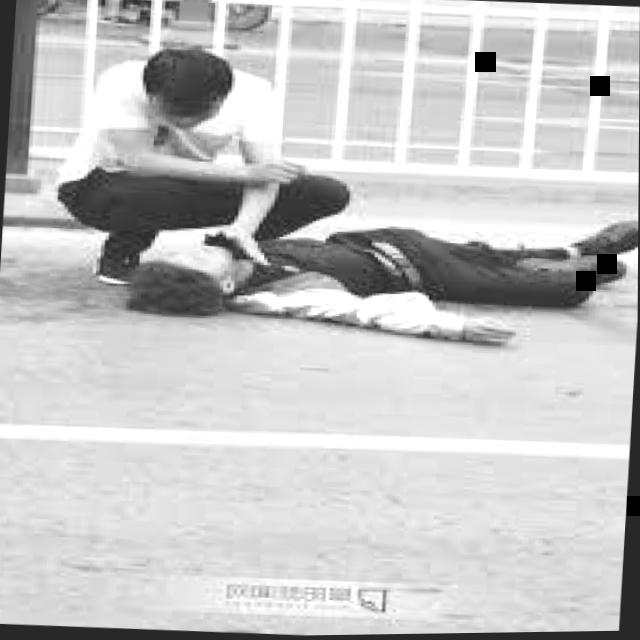Fall-Detected: (132, 193, 639, 354)
